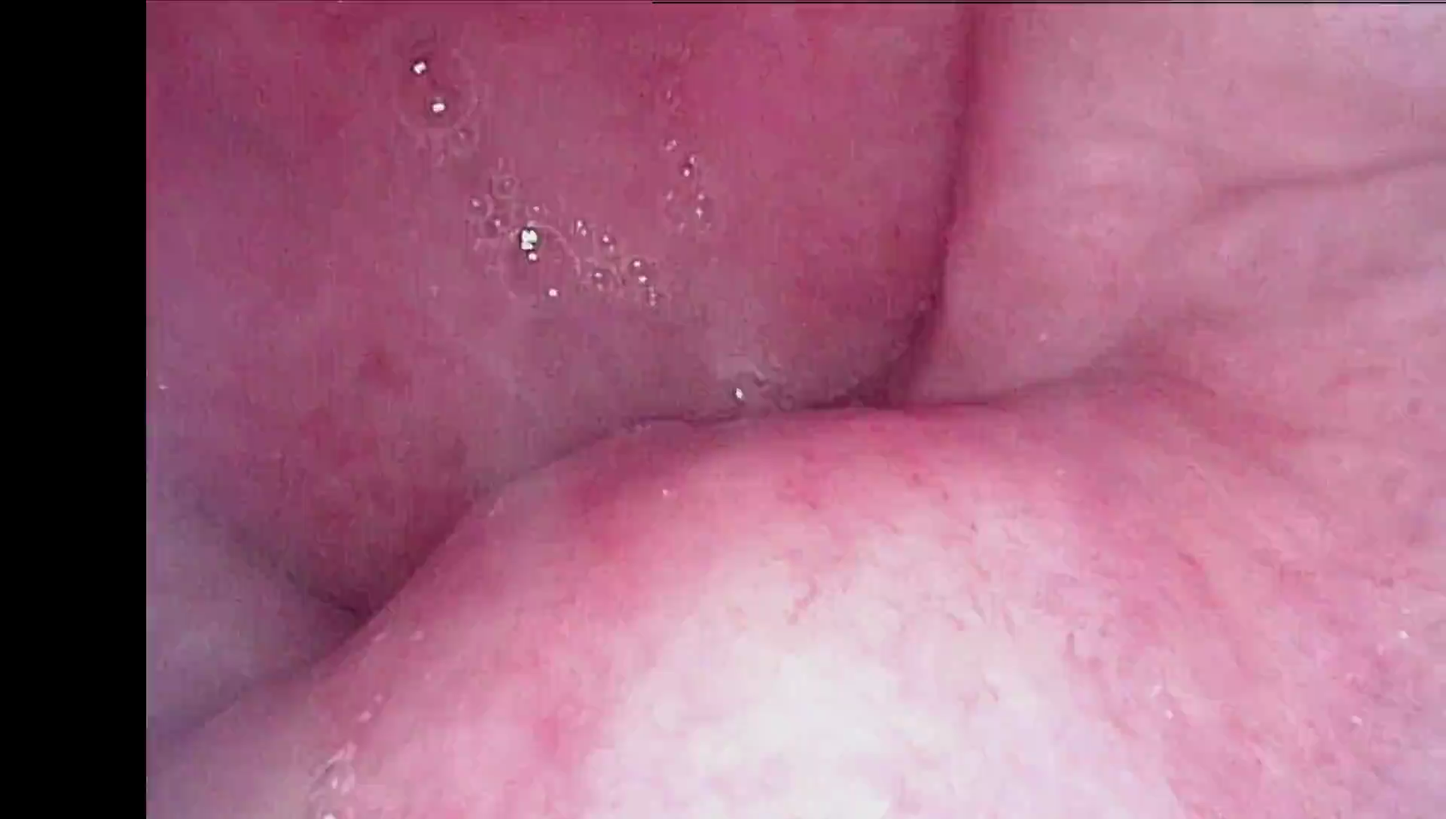close_wall: (530, 495, 1267, 819), (1199, 0, 1446, 147)
